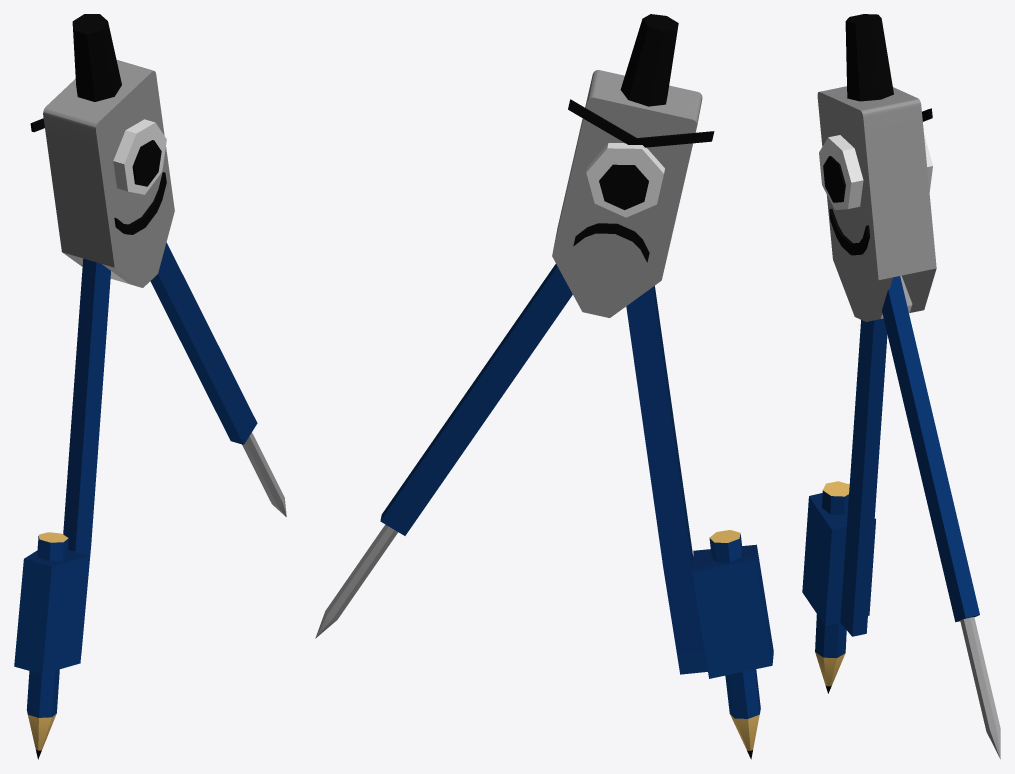
Rendered from konpasuaruki.fbx.
3 renders of one model, left to right at view 1: azimuth 30°, elevation 25°; view 2: azimuth 150°, elevation 25°; view 3: azimuth 270°, elevation 25°, orthographic. The views are drawn at different scales.
Parts seen in each view (by area): view 1: pasted__pCube12; view 2: pasted__pCube12; view 3: pasted__pCube12.
Part boxes in pixels (x1,y1,x2,y2): pasted__pCube12: [14, 14, 286, 759]; pasted__pCube12: [315, 14, 773, 759]; pasted__pCube12: [802, 14, 1000, 759].
Bounding box in the file's own units: 65.36 × 124 × 31.34.
